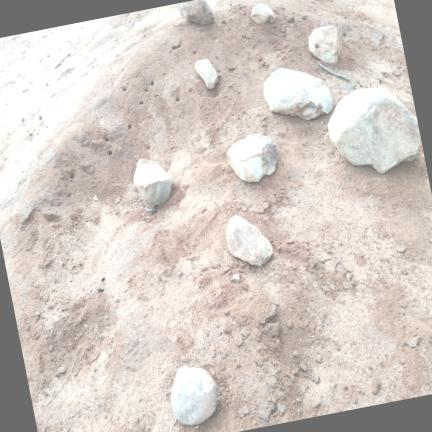Rocks: (328, 87, 420, 173), (263, 68, 331, 120), (170, 367, 218, 425), (226, 134, 277, 182), (226, 216, 272, 266), (133, 159, 170, 208), (308, 26, 339, 63), (177, 0, 213, 25), (194, 60, 217, 89), (250, 4, 274, 23), (407, 336, 418, 348), (238, 406, 248, 418), (371, 379, 379, 394), (276, 403, 285, 415), (395, 244, 406, 253), (230, 274, 240, 283), (311, 374, 319, 383), (287, 16, 296, 24), (58, 365, 66, 374), (114, 196, 122, 204), (399, 299, 406, 308), (292, 351, 298, 358)
